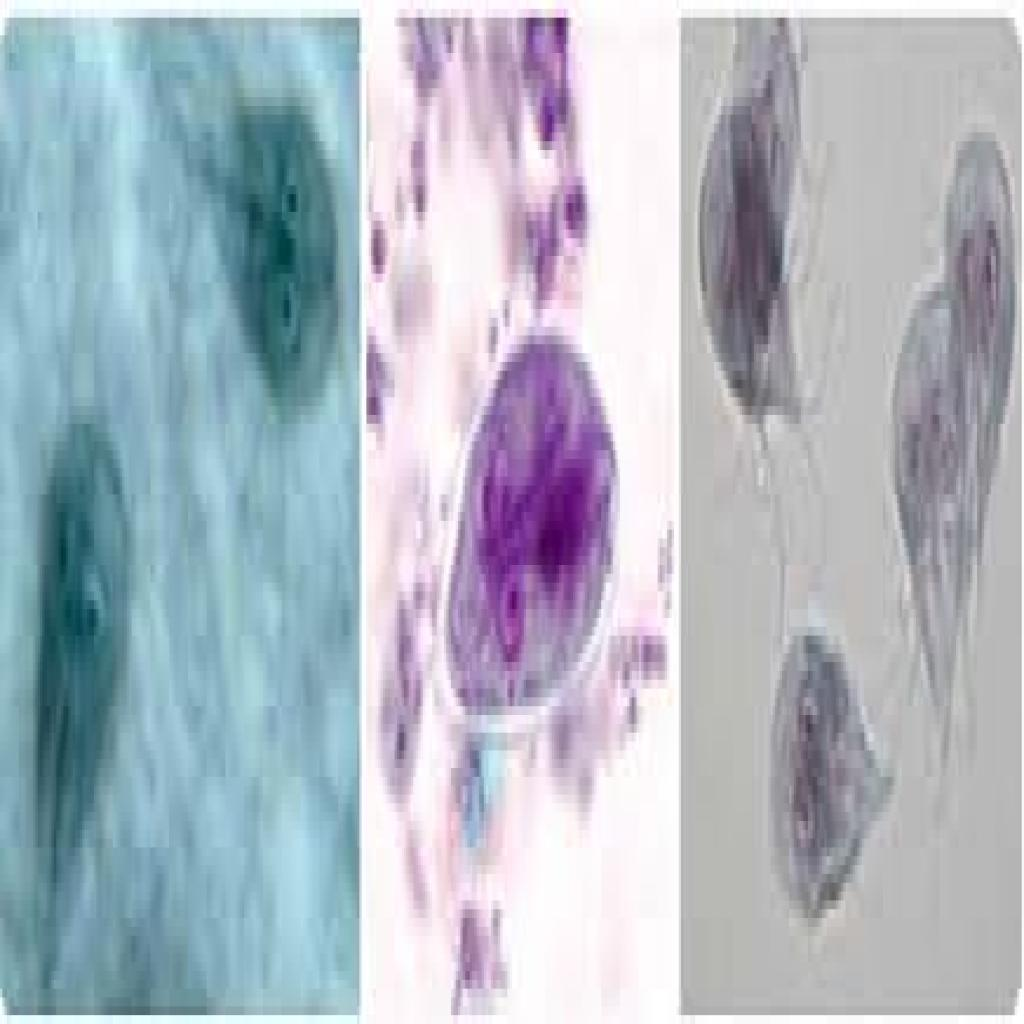Giardia: (442, 318, 618, 724), (28, 406, 129, 953), (202, 88, 343, 424), (763, 618, 897, 944), (695, 88, 808, 459), (939, 115, 1017, 609), (885, 274, 963, 759)
